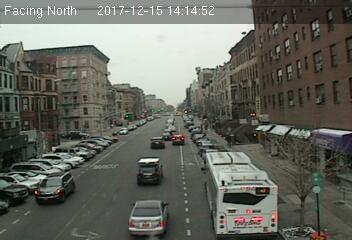bus: (204, 151, 278, 240)
car: (127, 200, 168, 235), (35, 171, 75, 203), (137, 158, 162, 185), (150, 136, 165, 149), (171, 134, 185, 145)
